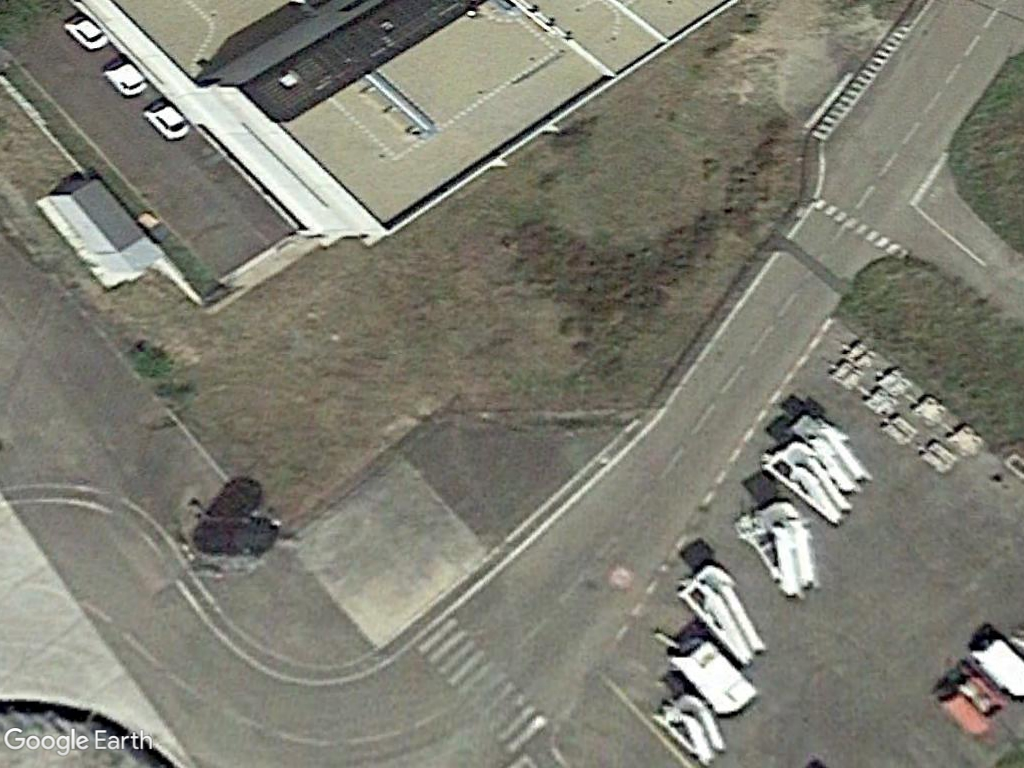stairtruck: (674, 552, 779, 668), (728, 491, 822, 601), (756, 429, 857, 526), (779, 398, 881, 493), (651, 681, 730, 768)
